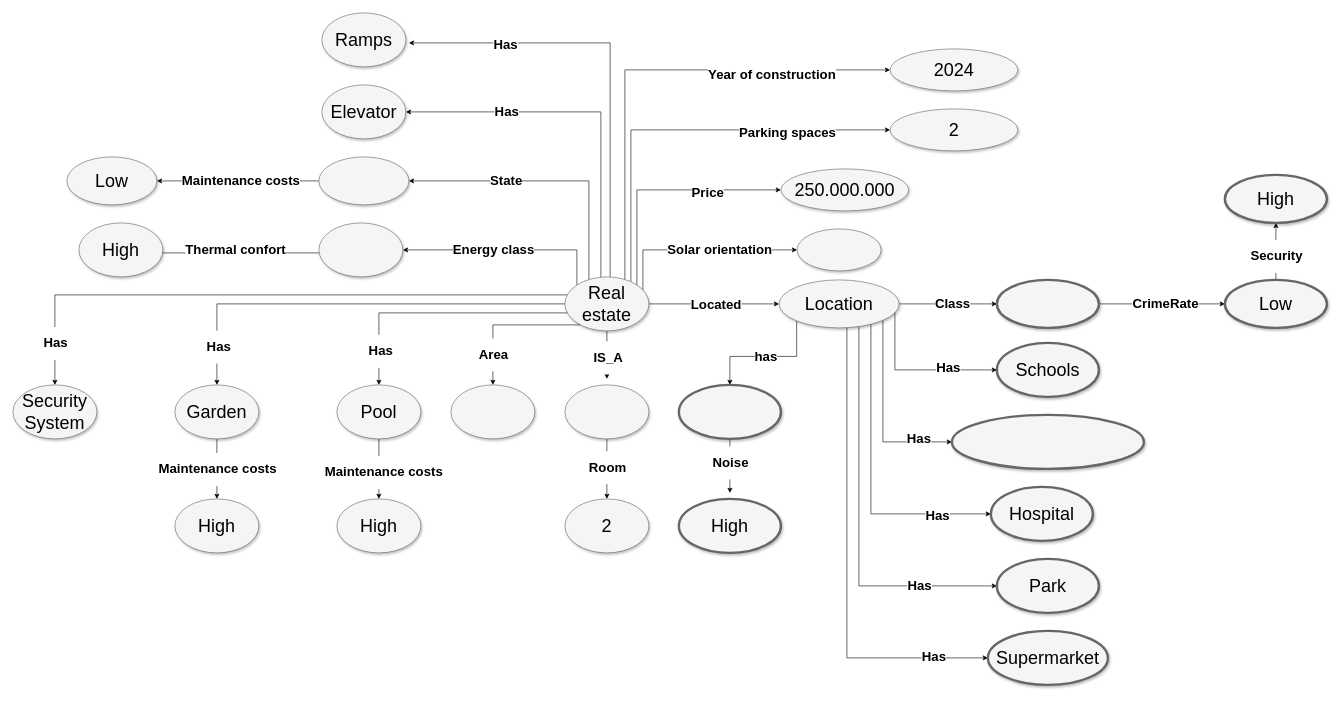
Image size: 1342x701. Some labels were removed from this diagram. The centre of each missing label's shape, as x and y in pixels:
250m2: (493,412)
A++: (361,250)
Busy highway: (730,412)
New: (364,181)
North: (839,250)
Public transportation: (1048,442)
T2: (607,412)
Upper class: (1048,304)
